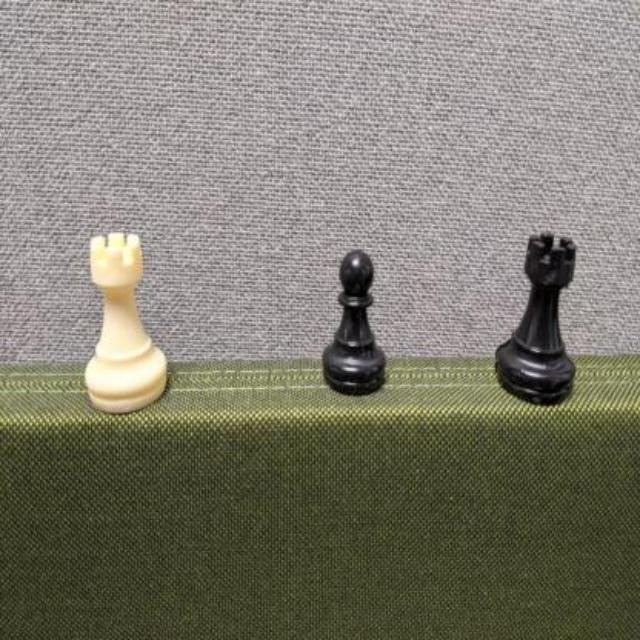black-pawn: (322, 246, 392, 398)
black-rook: (493, 231, 583, 407)
white-rook: (85, 228, 171, 411)
